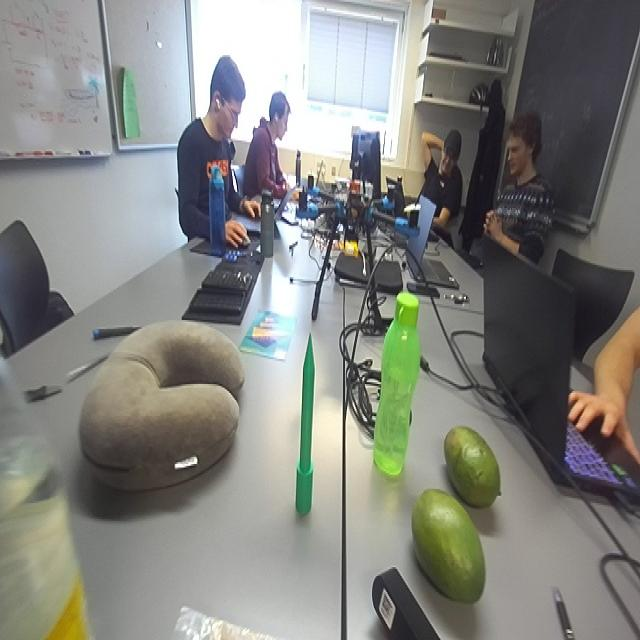probe: (296, 332, 314, 514)
